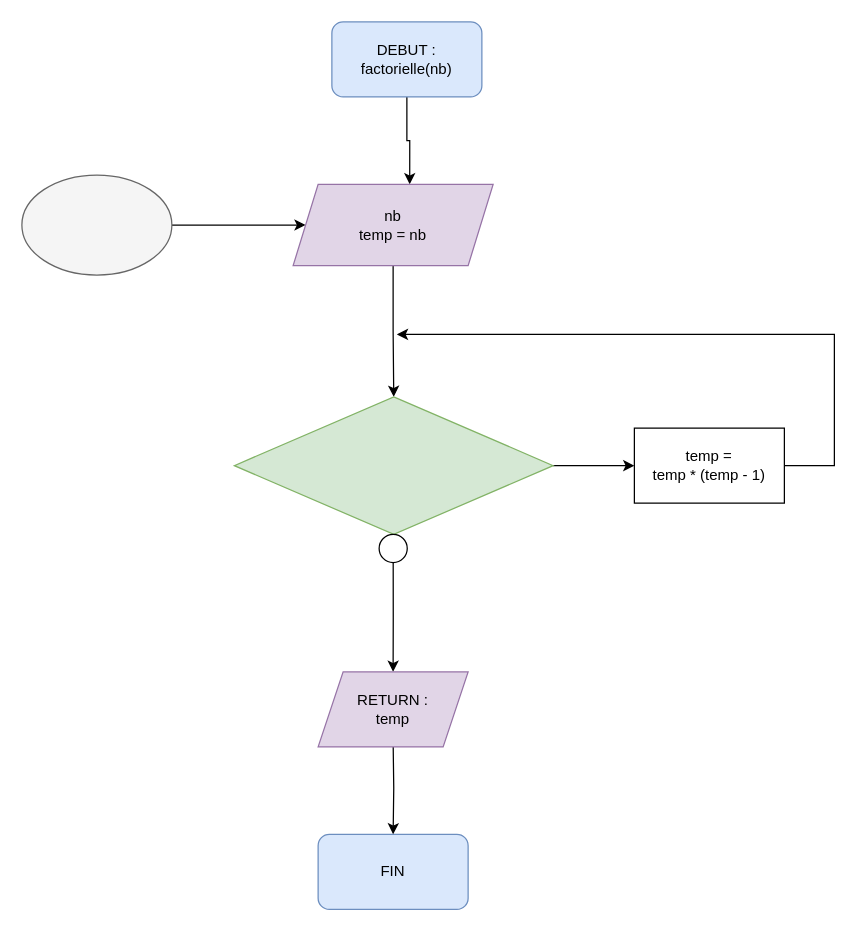
Image size: 866x931. Some labels were removed from this diagram. The shapes that lost their labels are listed below. From the top down, each one's centre as x and y in pixels, then its label:
pixel 96 224: Manière d'obtenir
pixel 393 465: TANT QUE : temp > 1
